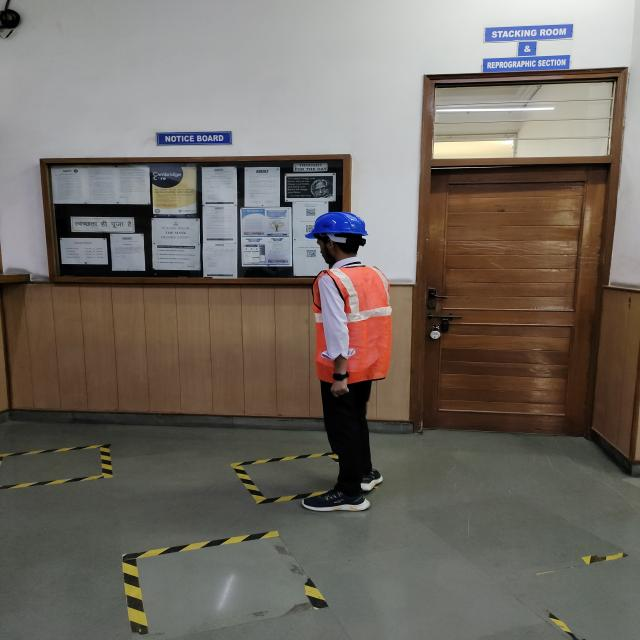safe: (305, 212, 392, 512)
